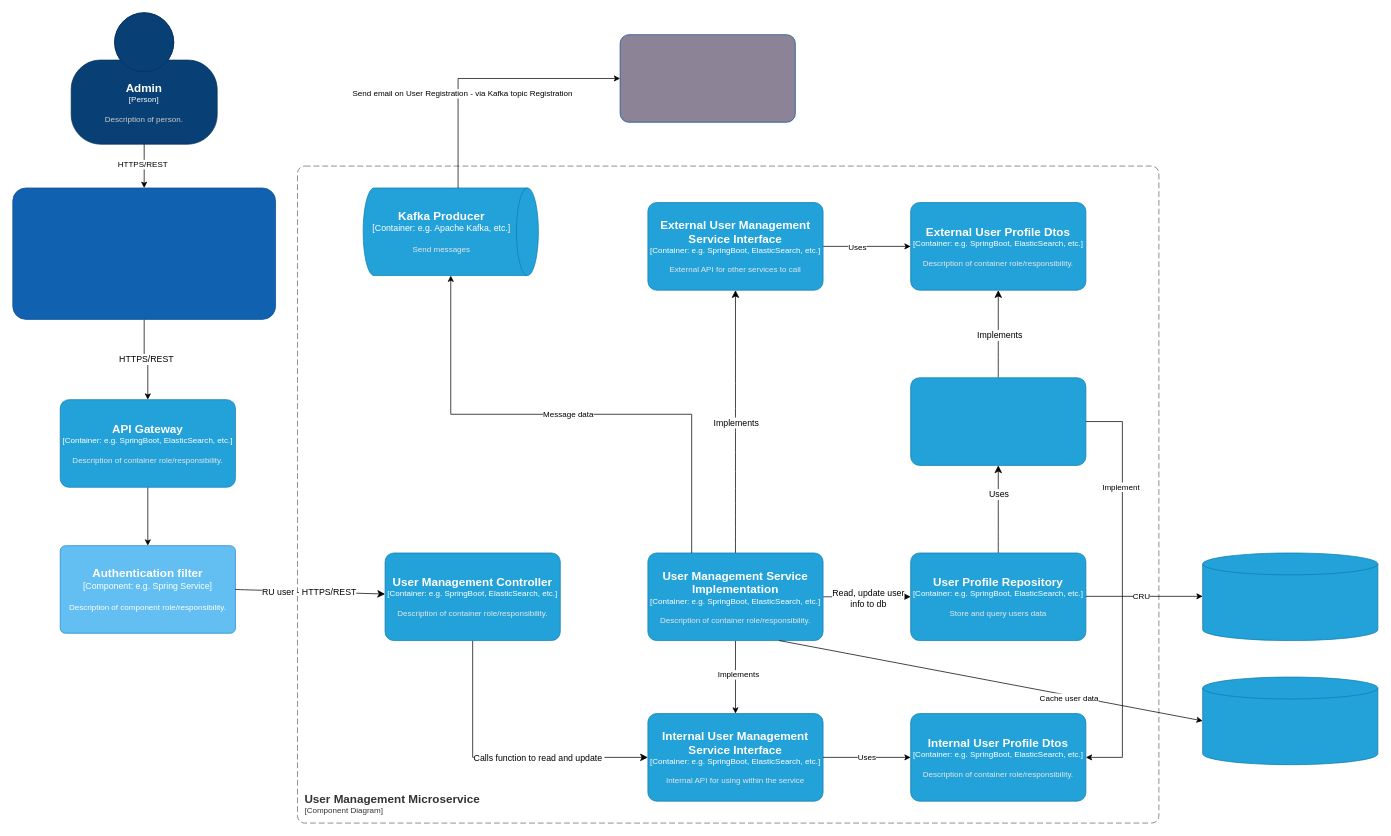
Some shapes in this 1391 by 836 pixel diagram are drawn without their labels. Here are the shapes that lost their labels. From the top down, the centre of each, then its label:
At (707,78): "Notification Service [Software System] Description of software system.".
At (144,253): "Admin application [Software System] Description of software system.".
At (998,421): "User Profile Model [Container: e.g. SpringBoot, ElasticSearch, etc.] Entity".
At (1290,596): "User [Container: Postgres] Store users data".
At (1290,720): "Cache [Container: Redis] Frequently Accessed Data of User".
